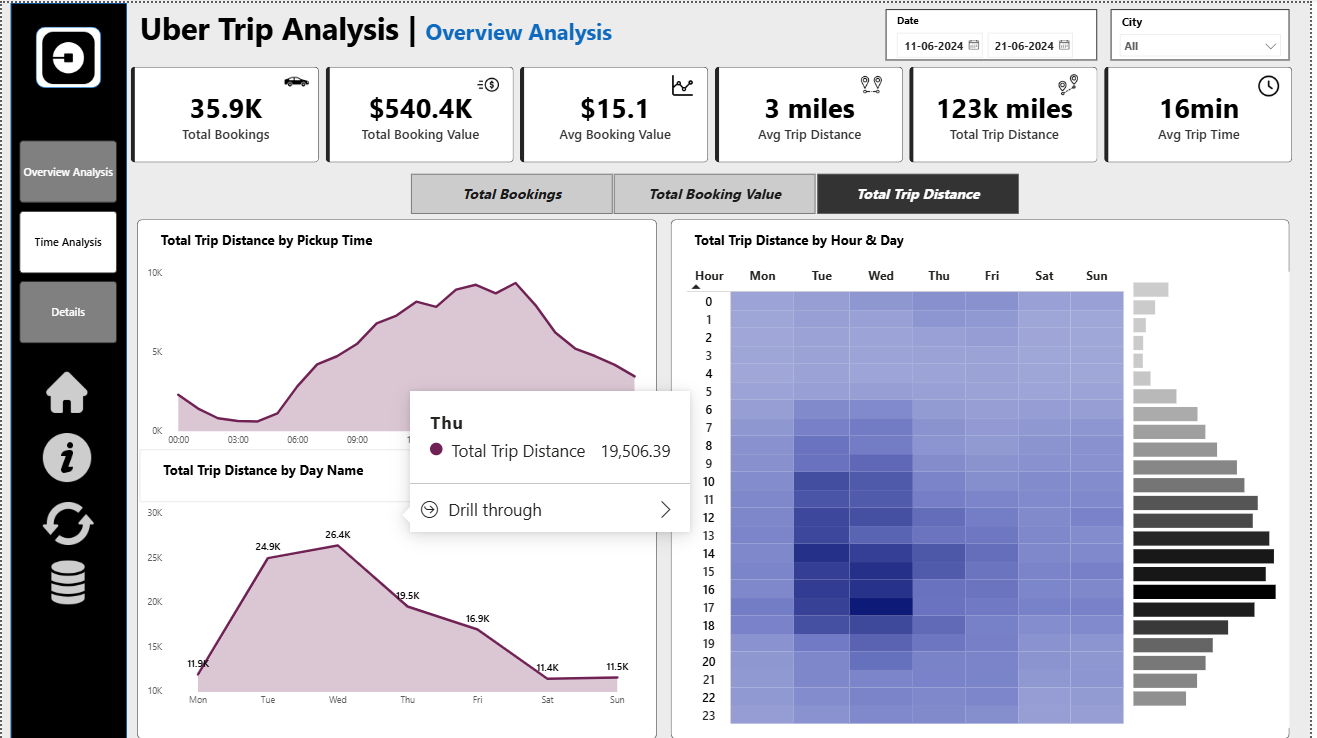

Layout of this report page (visuals, bound fields, positions):
{"tool":"powerbi","page":{"name":"Overview Analysis","canvas":[1600,900],"ordinal":0},"visuals":[{"type":"shape","box":[10.3,0,142,900.5],"z":0},{"type":"textbox","box":[163.6,0,781.1,197.2],"z":1000},{"type":"cardVisual","fields":{"Data":["Trip Details.Total Bookings","Trip Details.Total Booking Amount","Trip Details.Avg Booking Amount","Trip Details.Avg Trip Distance","Trip Details.Total Trip Distance","Trip Details.Avg Trip Time"]},"box":[140.6,61.1,1459.8,151.3],"z":2000},{"type":"image","box":[567.1,74.9,48.9,26],"z":3000},{"type":"image","box":[1051.6,76.4,35.2,26],"z":4000},{"type":"image","box":[1284,78,41.3,26],"z":5000},{"type":"image","box":[1530.1,78,26,29],"z":6000},{"type":"shape","box":[163.6,212.5,700.1,325.6],"z":7000},{"type":"slicer","fields":{"Values":["Dynamic Measure.Dynamic Measure"]},"box":[210.9,212.7,607.3,70.9],"z":8000},{"type":"image","box":[817.8,76.4,29,30.6],"z":9000},{"type":"donutChart","fields":{"Y":["Trip Details.Total Bookings"],"Category":["Trip Details.Payment_type"]},"box":[169.1,303.6,300,214.5],"z":10000},{"type":"image","box":[331.7,73.4,52,33.6],"z":11000},{"type":"donutChart","fields":{"Y":["Trip Details.Total Bookings"],"Category":["Trip Details.Trip Type (Day/Night)"]},"box":[529.1,303.6,300,214.5],"z":12000},{"type":"shape","box":[163.6,554.9,706.2,331.7],"z":13000},{"type":"pivotTable","fields":{"Rows":["Trip Details.Vehicle"],"Values":["Trip Details.Total Bookings","Trip Details.Total Booking Value","Trip Details.Avg Booking Value","Trip Details.Total Trip Distance"]},"box":[234.5,607.3,629.1,274.5],"z":14000},{"type":"image","box":[170.1,732.2,59.6,52],"z":15000},{"type":"image","box":[170.1,692.4,59.6,52],"z":16000},{"type":"image","box":[168.6,773.4,62.7,65.7],"z":17000},{"type":"image","box":[168.6,649.6,62.7,58.1],"z":18000},{"type":"image","box":[166.3,822.4,67.3,53.5],"z":19000},{"type":"cardVisual","fields":{"Data":["Trip Details.Title for Grid"]},"box":[163.6,554.9,230.8,61.1],"z":20000},{"type":"shape","box":[883.5,212.5,703.1,163.6],"z":21000},{"type":"areaChart","fields":{"Category":["Calender Table.Date.Variation.Date Hierarchy.Day"],"Y":["Trip Details.Total Bookings"]},"box":[883.5,212.5,689.4,163.6],"z":22000},{"type":"shape","box":[883.6,390.2,703.3,495.1],"z":23000},{"type":"cardVisual","fields":{"Data":["Trip Details.Most Frequent pickup point","Trip Details.Most frequent Dropoff point"]},"box":[890.2,436.1,691.8,103.3],"z":24000},{"type":"cardVisual","fields":{"Data":["Trip Details.Farthest Trip"]},"box":[890.2,523,683.6,88.5],"z":25000},{"type":"barChart","fields":{"Category":["Location Table.Location"],"Y":["Trip Details.Total Bookings"]},"box":[893.4,611.5,309.8,268.9],"z":26000},{"type":"barChart","title":"Most preferred Vehicle for Location pickup","fields":{"Category":["Trip Details.Vehicle"],"Y":["CountNonNull(Trip Details.PULocationID)"]},"box":[1228.9,606.8,334.8,269],"z":27000},{"type":"shape","box":[480,284.3,48.9,255.3],"z":28000},{"type":"shape","box":[1185.2,613.1,49.2,255.7],"z":29000},{"type":"cardVisual","fields":{"Data":["Trip Details.Title for Location"]},"box":[883.5,389.8,194.1,53.5],"z":30000},{"type":"slicer","fields":{"Values":["Calender Table.Date"]},"box":[1013.4,7.6,290.4,61.1],"z":31000},{"type":"slicer","fields":{"Values":["Location Table.City"]},"box":[1325.2,7.6,247.6,61.1],"z":32000},{"type":"shape","box":[41.3,29,80,74.9],"z":33000},{"type":"image","box":[41.3,35.2,79.5,64.2],"z":34000},{"type":"pageNavigator","box":[21.4,168.1,119.2,249.2],"z":35000},{"type":"image","box":[41.3,450.9,76.4,50.4],"z":36000},{"type":"image","box":[44.3,525.8,70.3,59.6],"z":37000},{"type":"image","box":[44.3,681.7,73.4,53.5],"z":38000},{"type":"image","box":[45.9,605.3,70.3,62.7],"z":39000}]}

Visuals, with their boxes in screenshot pixels (x1, y1, x2, y2), scaled from the page's 1600x900 canvas onto the 1317x738 screenshot:
shape: (8,0,125,737)
textbox: (135,0,778,162)
cardVisual - Trip Details.Total Bookings x Trip Details.Total Booking Amount: (116,50,1316,174)
image: (467,61,507,83)
image: (866,63,895,84)
image: (1057,64,1091,85)
image: (1259,64,1281,88)
shape: (135,174,711,441)
slicer - Dynamic Measure.Dynamic Measure: (174,174,673,233)
image: (673,63,697,88)
donutChart - Trip Details.Total Bookings x Trip Details.Payment_type: (139,249,386,425)
image: (273,60,316,88)
donutChart - Trip Details.Total Bookings x Trip Details.Trip Type (Day/Night): (436,249,682,425)
shape: (135,455,716,727)
pivotTable - Trip Details.Vehicle x Trip Details.Total Bookings: (193,498,711,723)
image: (140,600,189,643)
image: (140,568,189,610)
image: (139,634,190,688)
image: (139,533,190,580)
image: (137,674,192,718)
cardVisual - Trip Details.Title for Grid: (135,455,325,505)
shape: (727,174,1306,308)
areaChart - Calender Table.Date.Variation.Date Hierarchy.Day x Trip Details.Total Bookings: (727,174,1295,308)
shape: (727,320,1306,726)
cardVisual - Trip Details.Most Frequent pickup point x Trip Details.Most frequent Dropoff point: (733,358,1302,442)
cardVisual - Trip Details.Farthest Trip: (733,429,1295,501)
barChart - Location Table.Location x Trip Details.Total Bookings: (735,501,990,722)
"Most preferred Vehicle for Location pickup" barChart: (1012,498,1287,718)
shape: (395,233,435,442)
shape: (976,503,1016,712)
cardVisual - Trip Details.Title for Location: (727,320,887,364)
slicer - Calender Table.Date: (834,6,1073,56)
slicer - Location Table.City: (1091,6,1295,56)
shape: (34,24,100,85)
image: (34,29,99,82)
pageNavigator: (18,138,116,342)
image: (34,370,97,411)
image: (36,431,94,480)
image: (36,559,97,603)
image: (38,496,96,548)
